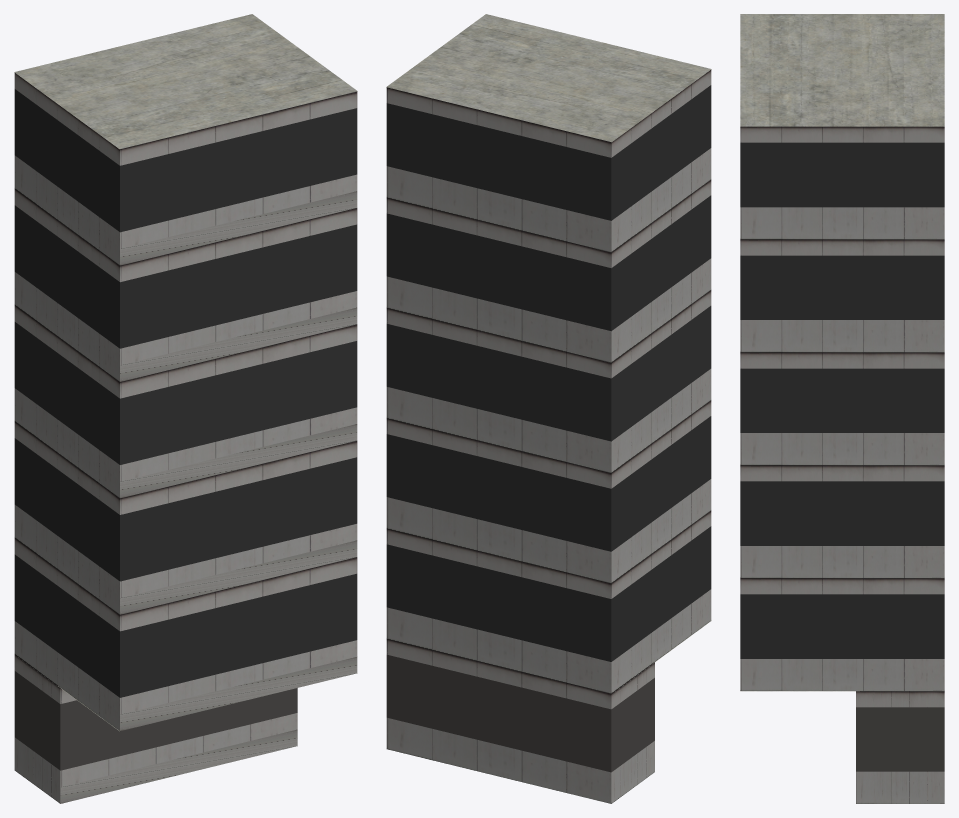
The model's file is building_a.fbx.
The picture shows the model from 3 angles, left to right: view 1: azimuth 30°, elevation 25°; view 2: azimuth 150°, elevation 25°; view 3: azimuth 270°, elevation 25°; orthographic projection. The views are drawn at different scales.
Parts seen in each view (by area): view 1: ガラス (×5), 外壁 (×5), 上, ポリゴンメッシュ; view 2: ガラス (×5), 外壁 (×5), ポリゴンメッシュ, 上; view 3: ガラス (×5), 外壁 (×5), 上, ポリゴンメッシュ.
Boxes of the visible parts, bbox=[...] form: ガラス (×5): bbox=[14, 89, 357, 697]; 外壁 (×5): bbox=[14, 73, 357, 730]; 上: bbox=[14, 14, 357, 149]; ポリゴンメッシュ: bbox=[14, 654, 297, 803]; ガラス (×5): bbox=[386, 85, 711, 661]; 外壁 (×5): bbox=[386, 70, 711, 693]; ポリゴンメッシュ: bbox=[386, 639, 654, 803]; 上: bbox=[386, 14, 711, 142]; ガラス (×5): bbox=[740, 142, 944, 658]; 外壁 (×5): bbox=[740, 126, 944, 690]; 上: bbox=[740, 14, 944, 126]; ポリゴンメッシュ: bbox=[856, 691, 944, 803].
Size of the model in its own units: 150 by 420 by 115.
85 materials, 33 textured.
